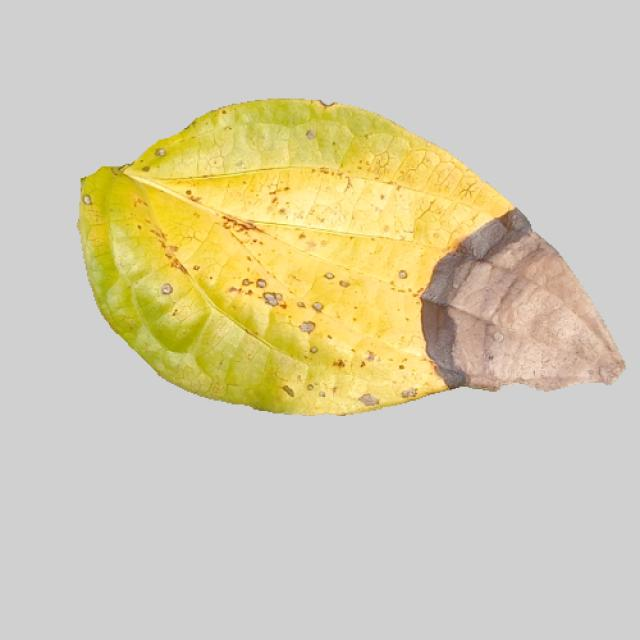leaf-blight: (76, 107, 630, 420)
